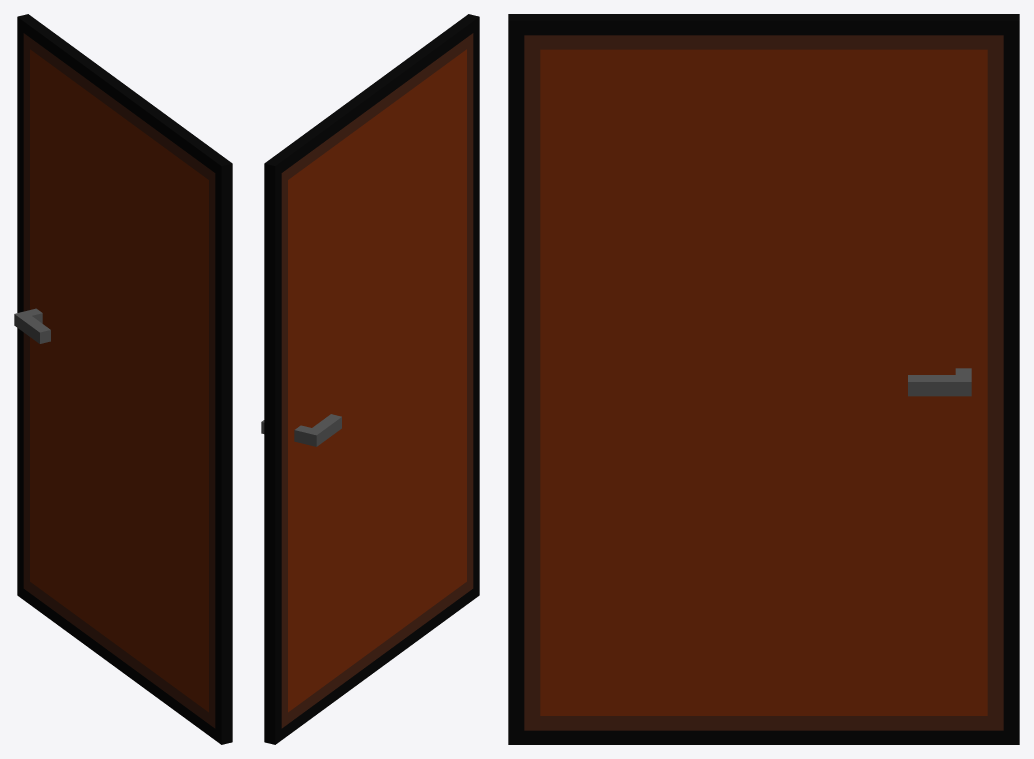
The model's file is Door.obj.
The picture shows the model from 3 angles, left to right: view 1: azimuth 30°, elevation 25°; view 2: azimuth 150°, elevation 25°; view 3: azimuth 270°, elevation 25°; orthographic projection. The views are drawn at different scales.
Visible parts, largest first — view 1: Door; view 2: Door; view 3: Door.
Boxes of the visible parts, <box> form: Door: <box>14,14,232,744</box>; Door: <box>261,14,479,744</box>; Door: <box>508,14,1019,744</box>.
Size of the model in its own units: 0.5 by 5 by 3.2.
1 material, 1 textured.
